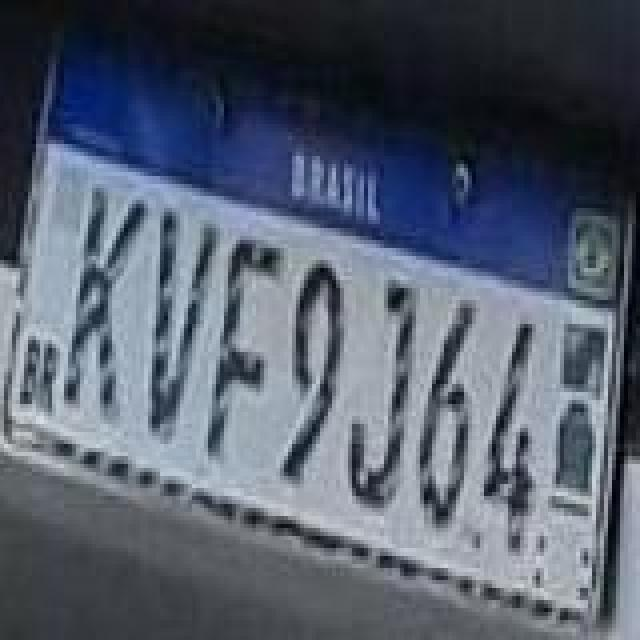4: (478, 310, 538, 554)
6: (418, 298, 478, 534)
9: (278, 256, 346, 480)
F: (204, 240, 284, 464)
J: (348, 278, 420, 514)
K: (58, 182, 150, 418)
V: (148, 210, 220, 438)
